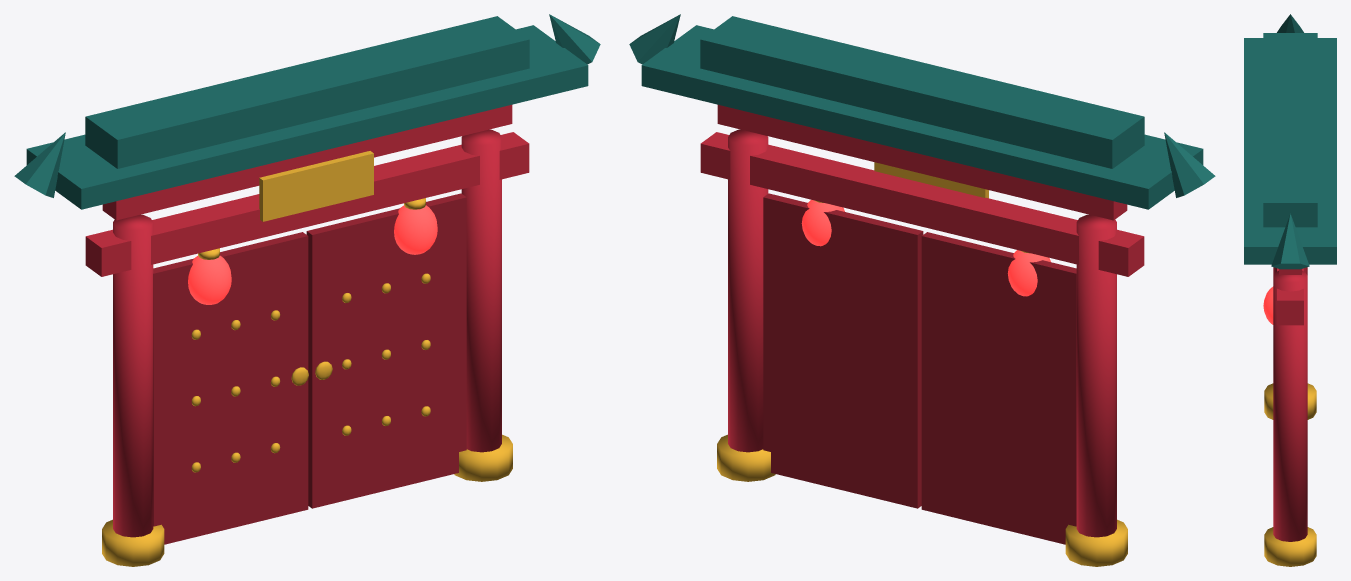
File: gate.glb
3 renders of one model, left to right at view 1: azimuth 30°, elevation 25°; view 2: azimuth 150°, elevation 25°; view 3: azimuth 270°, elevation 25°, orthographic. The views are drawn at different scales.
Visible parts, largest first — view 1: Frame, DoorR_m, DoorL_m, Lantern1, Lantern-1; view 2: Frame, DoorR_m, DoorL_m, Lantern-1, Lantern1; view 3: Frame, Lantern1.
Part boxes in pixels (x1,y1,x2,y2): Frame: (14, 14, 600, 566); DoorR_m: (306, 193, 466, 508); DoorL_m: (153, 232, 308, 544); Lantern1: (394, 205, 437, 254); Lantern-1: (188, 255, 231, 304); Frame: (629, 14, 1215, 566); DoorR_m: (763, 193, 923, 508); DoorL_m: (921, 232, 1076, 544); Lantern-1: (1007, 250, 1050, 296); Lantern1: (801, 200, 844, 246); Frame: (1244, 14, 1336, 566); Lantern1: (1263, 286, 1273, 324).
Bounding box in the file's own units: 7.26 × 5.29 × 1.2.
